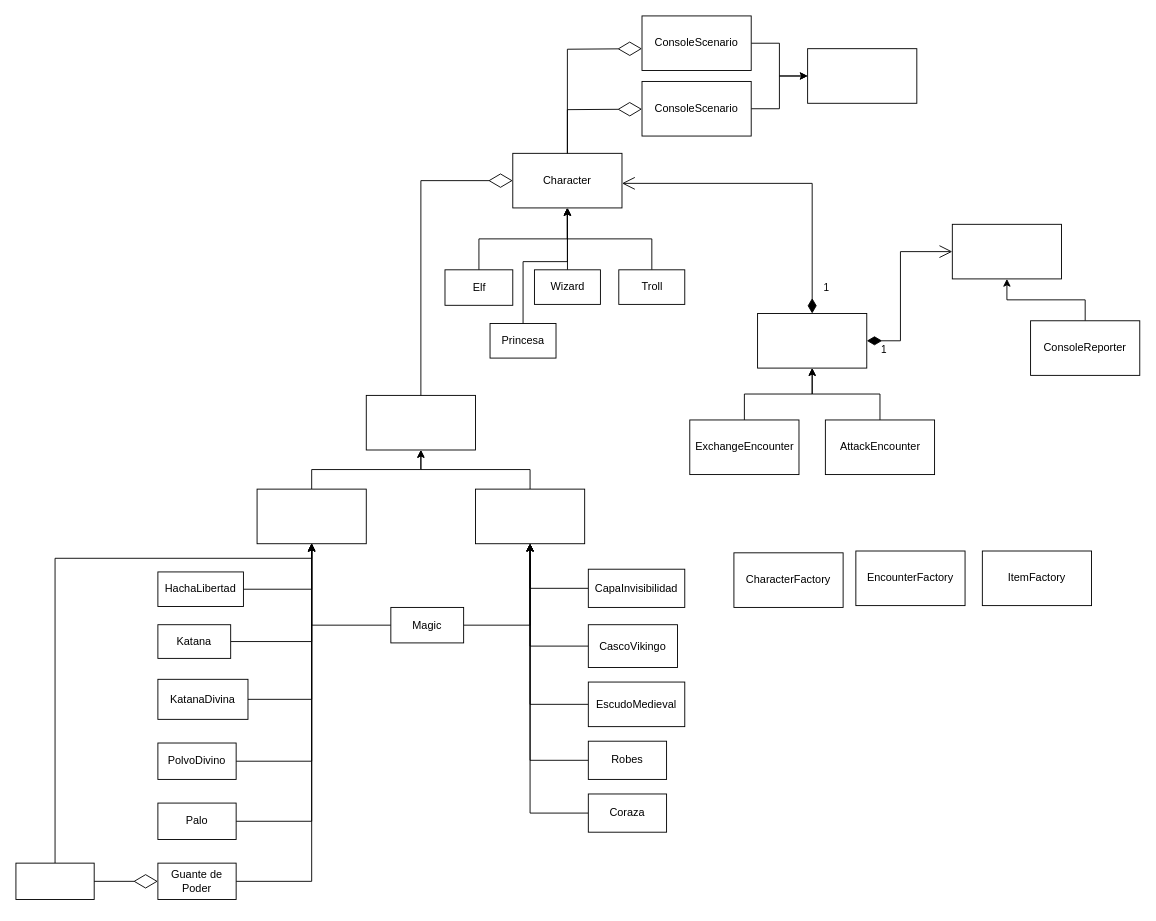
Image size: 1156x921. Some labels were removed from this diagram. The box of each missing label's shape, as (x1, y1, x2, y2) in pixels:
<<interface>> IAttackItem: (256, 488, 366, 544)
<<interface>> IDefenseItem: (475, 488, 585, 544)
<<interface>> IItem: (365, 394, 475, 450)
<<interface>> IReporter: (951, 223, 1062, 279)
<<interface>> IScenario: (807, 48, 917, 103)
Encounter: (757, 313, 867, 368)
Gemas: (15, 862, 94, 900)
